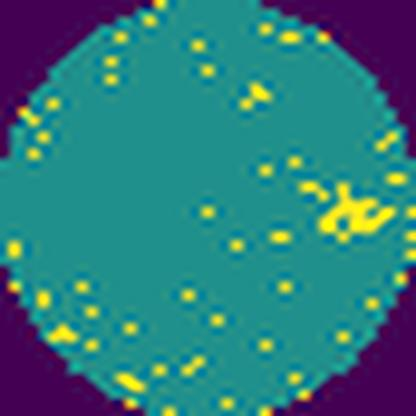Loc: (319, 177, 398, 244)
